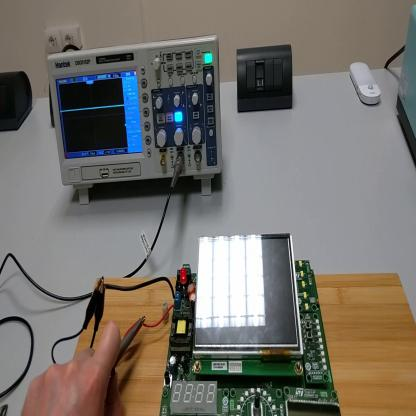hand: (23, 323, 123, 416)
low voltage board: (143, 234, 341, 416)
oscilloscope: (47, 38, 224, 207)
oscilloscope probe tip: (111, 317, 146, 377)
pliers: (2, 404, 11, 416)
socket: (1, 70, 33, 135), (49, 84, 56, 129)
welder station: (397, 6, 415, 168)
working area: (73, 272, 415, 414)
